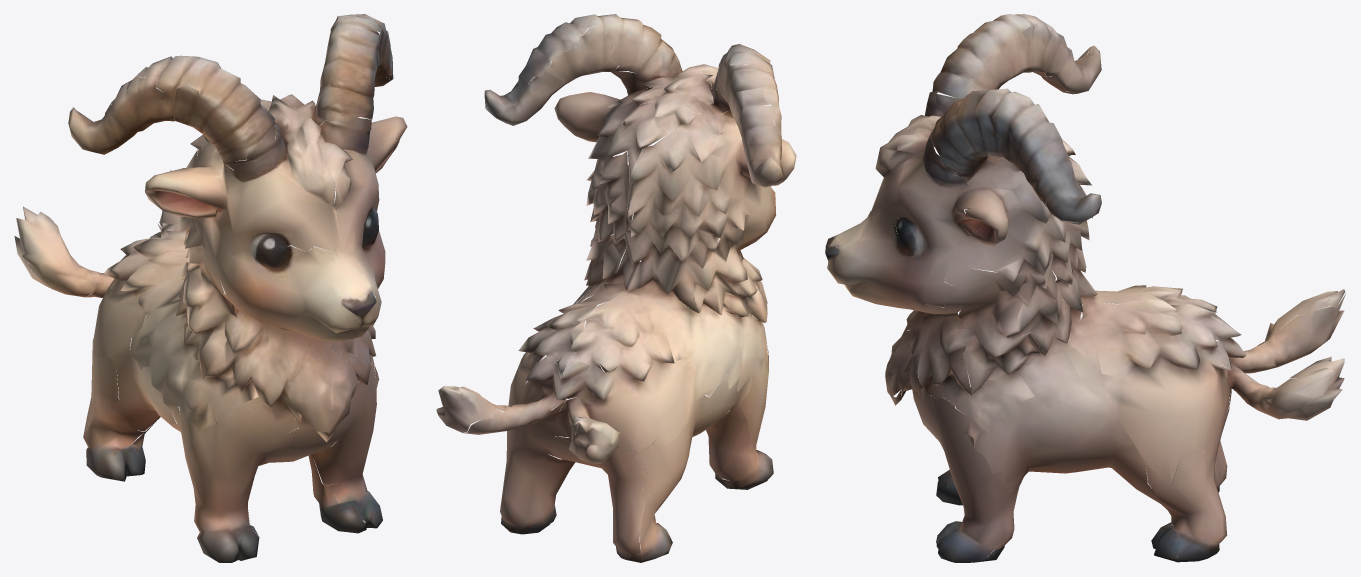
The model's file is mob_goat.glb.
The picture shows the model from 3 angles, left to right: view 1: azimuth 30°, elevation 25°; view 2: azimuth 150°, elevation 25°; view 3: azimuth 270°, elevation 25°; orthographic projection. The views are drawn at different scales.
Visible parts, largest first — view 1: tripo_node_5a844242-66ea-4be8-9952-b5703496492f; view 2: tripo_node_5a844242-66ea-4be8-9952-b5703496492f; view 3: tripo_node_5a844242-66ea-4be8-9952-b5703496492f.
Boxes of the visible parts, x1,y1,x2,y2 form: tripo_node_5a844242-66ea-4be8-9952-b5703496492f: (14, 14, 407, 562); tripo_node_5a844242-66ea-4be8-9952-b5703496492f: (436, 14, 796, 562); tripo_node_5a844242-66ea-4be8-9952-b5703496492f: (825, 14, 1345, 562).
Bounding box in the file's own units: 0.6903 × 0.9994 × 1.
Materials: 1 (1 with a texture image).
